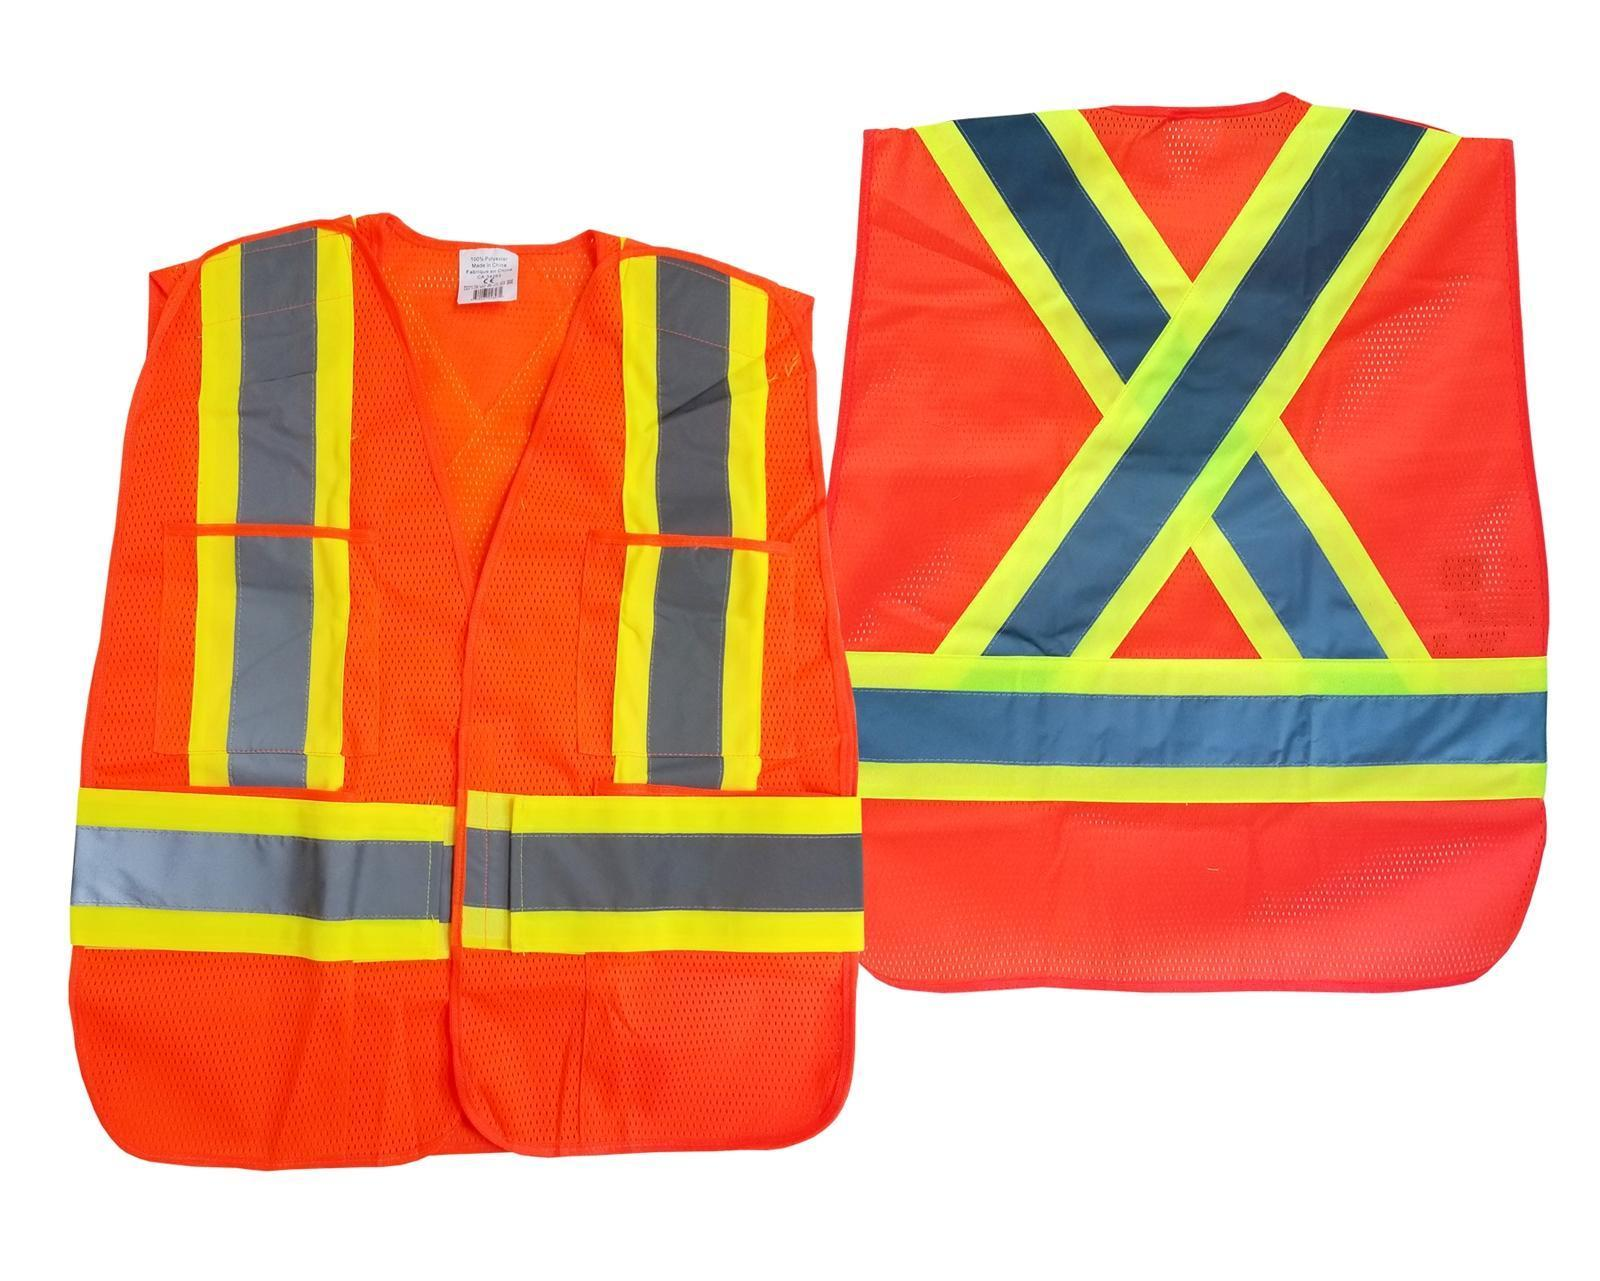vest: (67, 207, 865, 1176), (829, 112, 1561, 1001)
